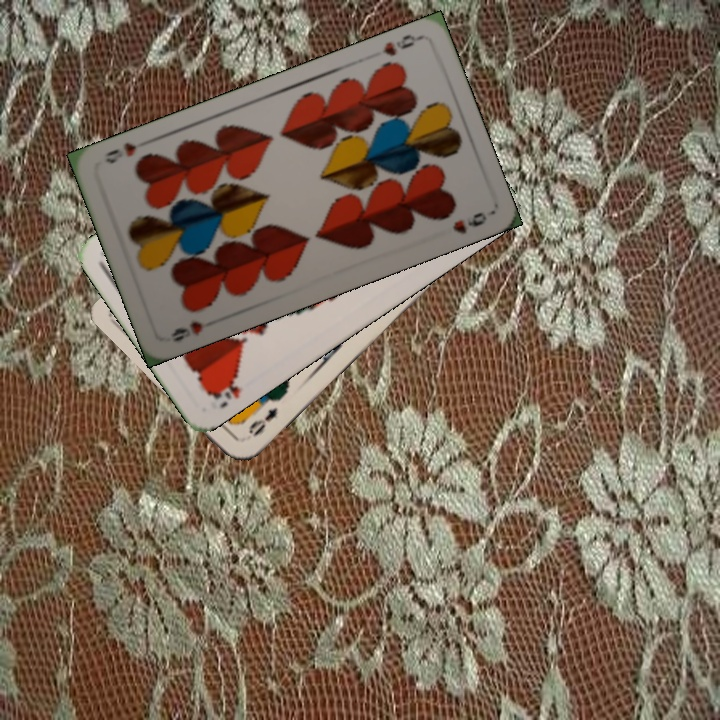EO: (244, 403, 281, 440)
H9: (378, 30, 423, 59), (167, 317, 205, 345)
HO: (204, 371, 244, 411)
